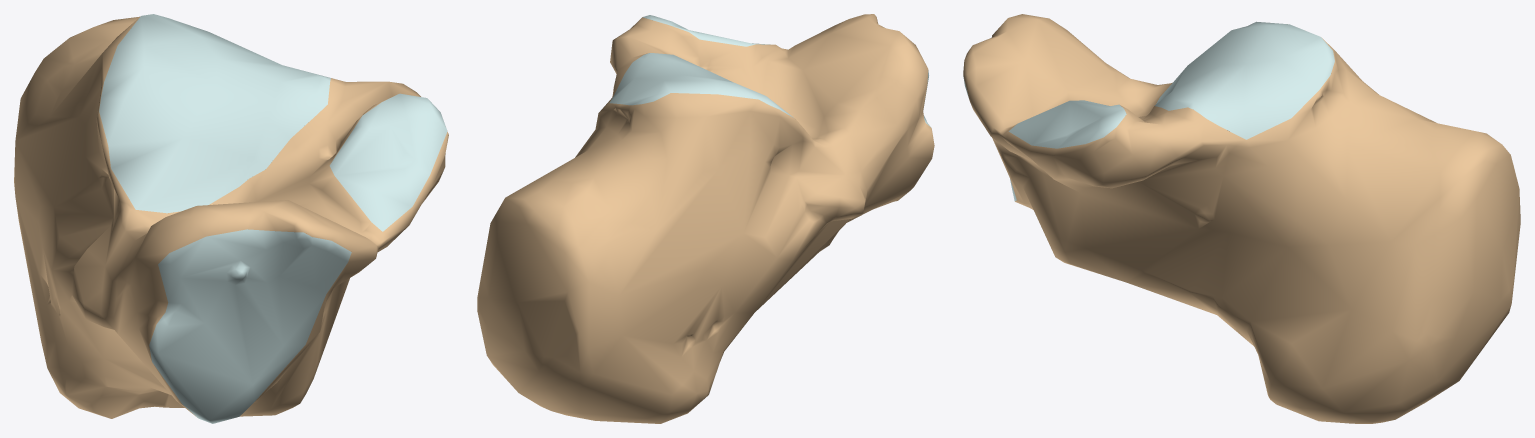
File: Calcaneus.r_Generated_Mesh_From_X3D.910.glb
3 views of the same model, side by side, from view 1: azimuth 30°, elevation 25°; view 2: azimuth 150°, elevation 25°; view 3: azimuth 270°, elevation 25° (orthographic). The views are drawn at different scales.
Visible parts, largest first — view 1: Calcaneus.r_Generated_Mesh_From_X3D.910; view 2: Calcaneus.r_Generated_Mesh_From_X3D.910; view 3: Calcaneus.r_Generated_Mesh_From_X3D.910.
Boxes of the visible parts, left/top/right/bottom form: Calcaneus.r_Generated_Mesh_From_X3D.910: left=14, top=14, right=448, bottom=423; Calcaneus.r_Generated_Mesh_From_X3D.910: left=477, top=14, right=934, bottom=423; Calcaneus.r_Generated_Mesh_From_X3D.910: left=963, top=14, right=1520, bottom=423.
Size of the model in its own units: 0.0475 by 0.0511 by 0.0757.
